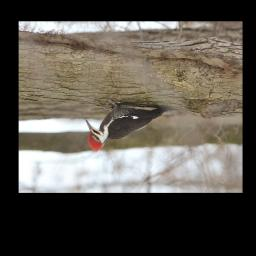Woodpecker: (85, 95, 183, 153)
